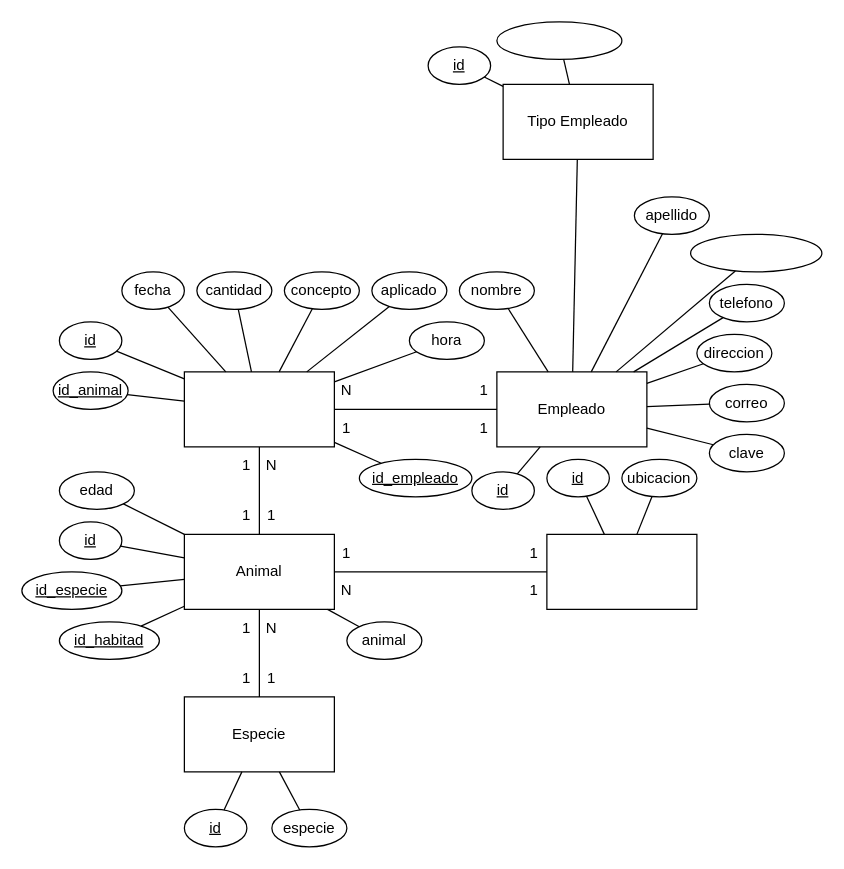
This 844x869 diagram has some shape labels left out. The shapes that lost their labels are listed below. From the top down, each one's centre as x and y in pixels, then its label:
the point at 559,40: tipo_empleado
the point at 755,252: id_tipo_empleado
the point at 258,409: Comida
the point at 621,571: Habitad
